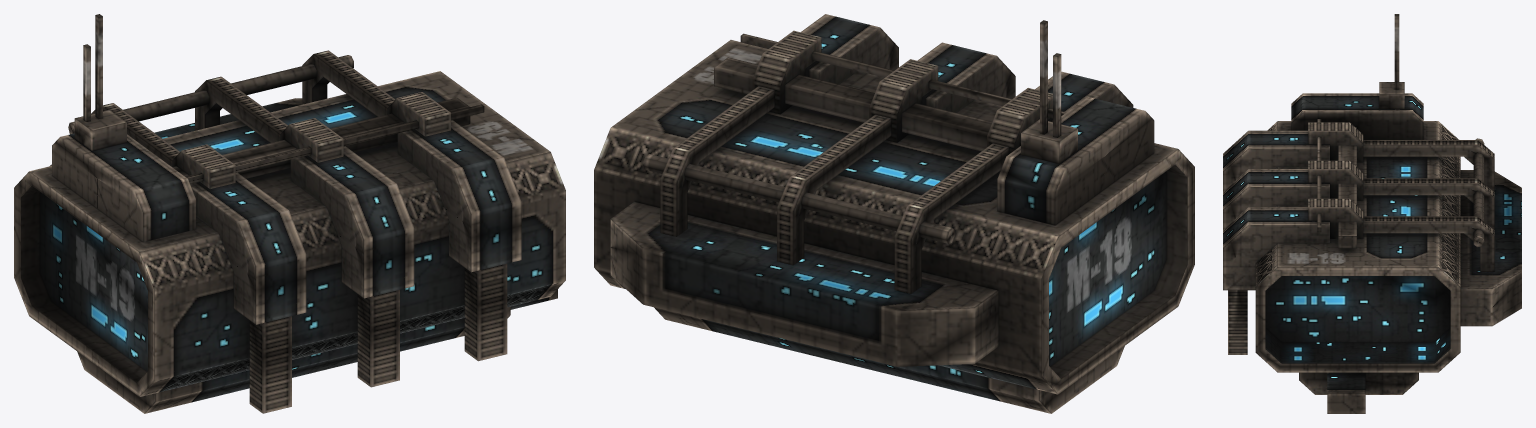
File: Exit.fbx
3 views of the same model, side by side, from view 1: azimuth 30°, elevation 25°; view 2: azimuth 150°, elevation 25°; view 3: azimuth 270°, elevation 25° (orthographic). The views are drawn at different scales.
Visible parts, largest first — view 1: space_station_4:space_station_4; view 2: space_station_4:space_station_4; view 3: space_station_4:space_station_4.
Boxes of the visible parts, left/top/right/bottom form: space_station_4:space_station_4: left=14, top=14, right=565, bottom=413; space_station_4:space_station_4: left=594, top=14, right=1194, bottom=413; space_station_4:space_station_4: left=1223, top=14, right=1521, bottom=413.
Size of the model in its own units: 45.33 by 33.93 by 35.63.
1 material, 1 textured.
